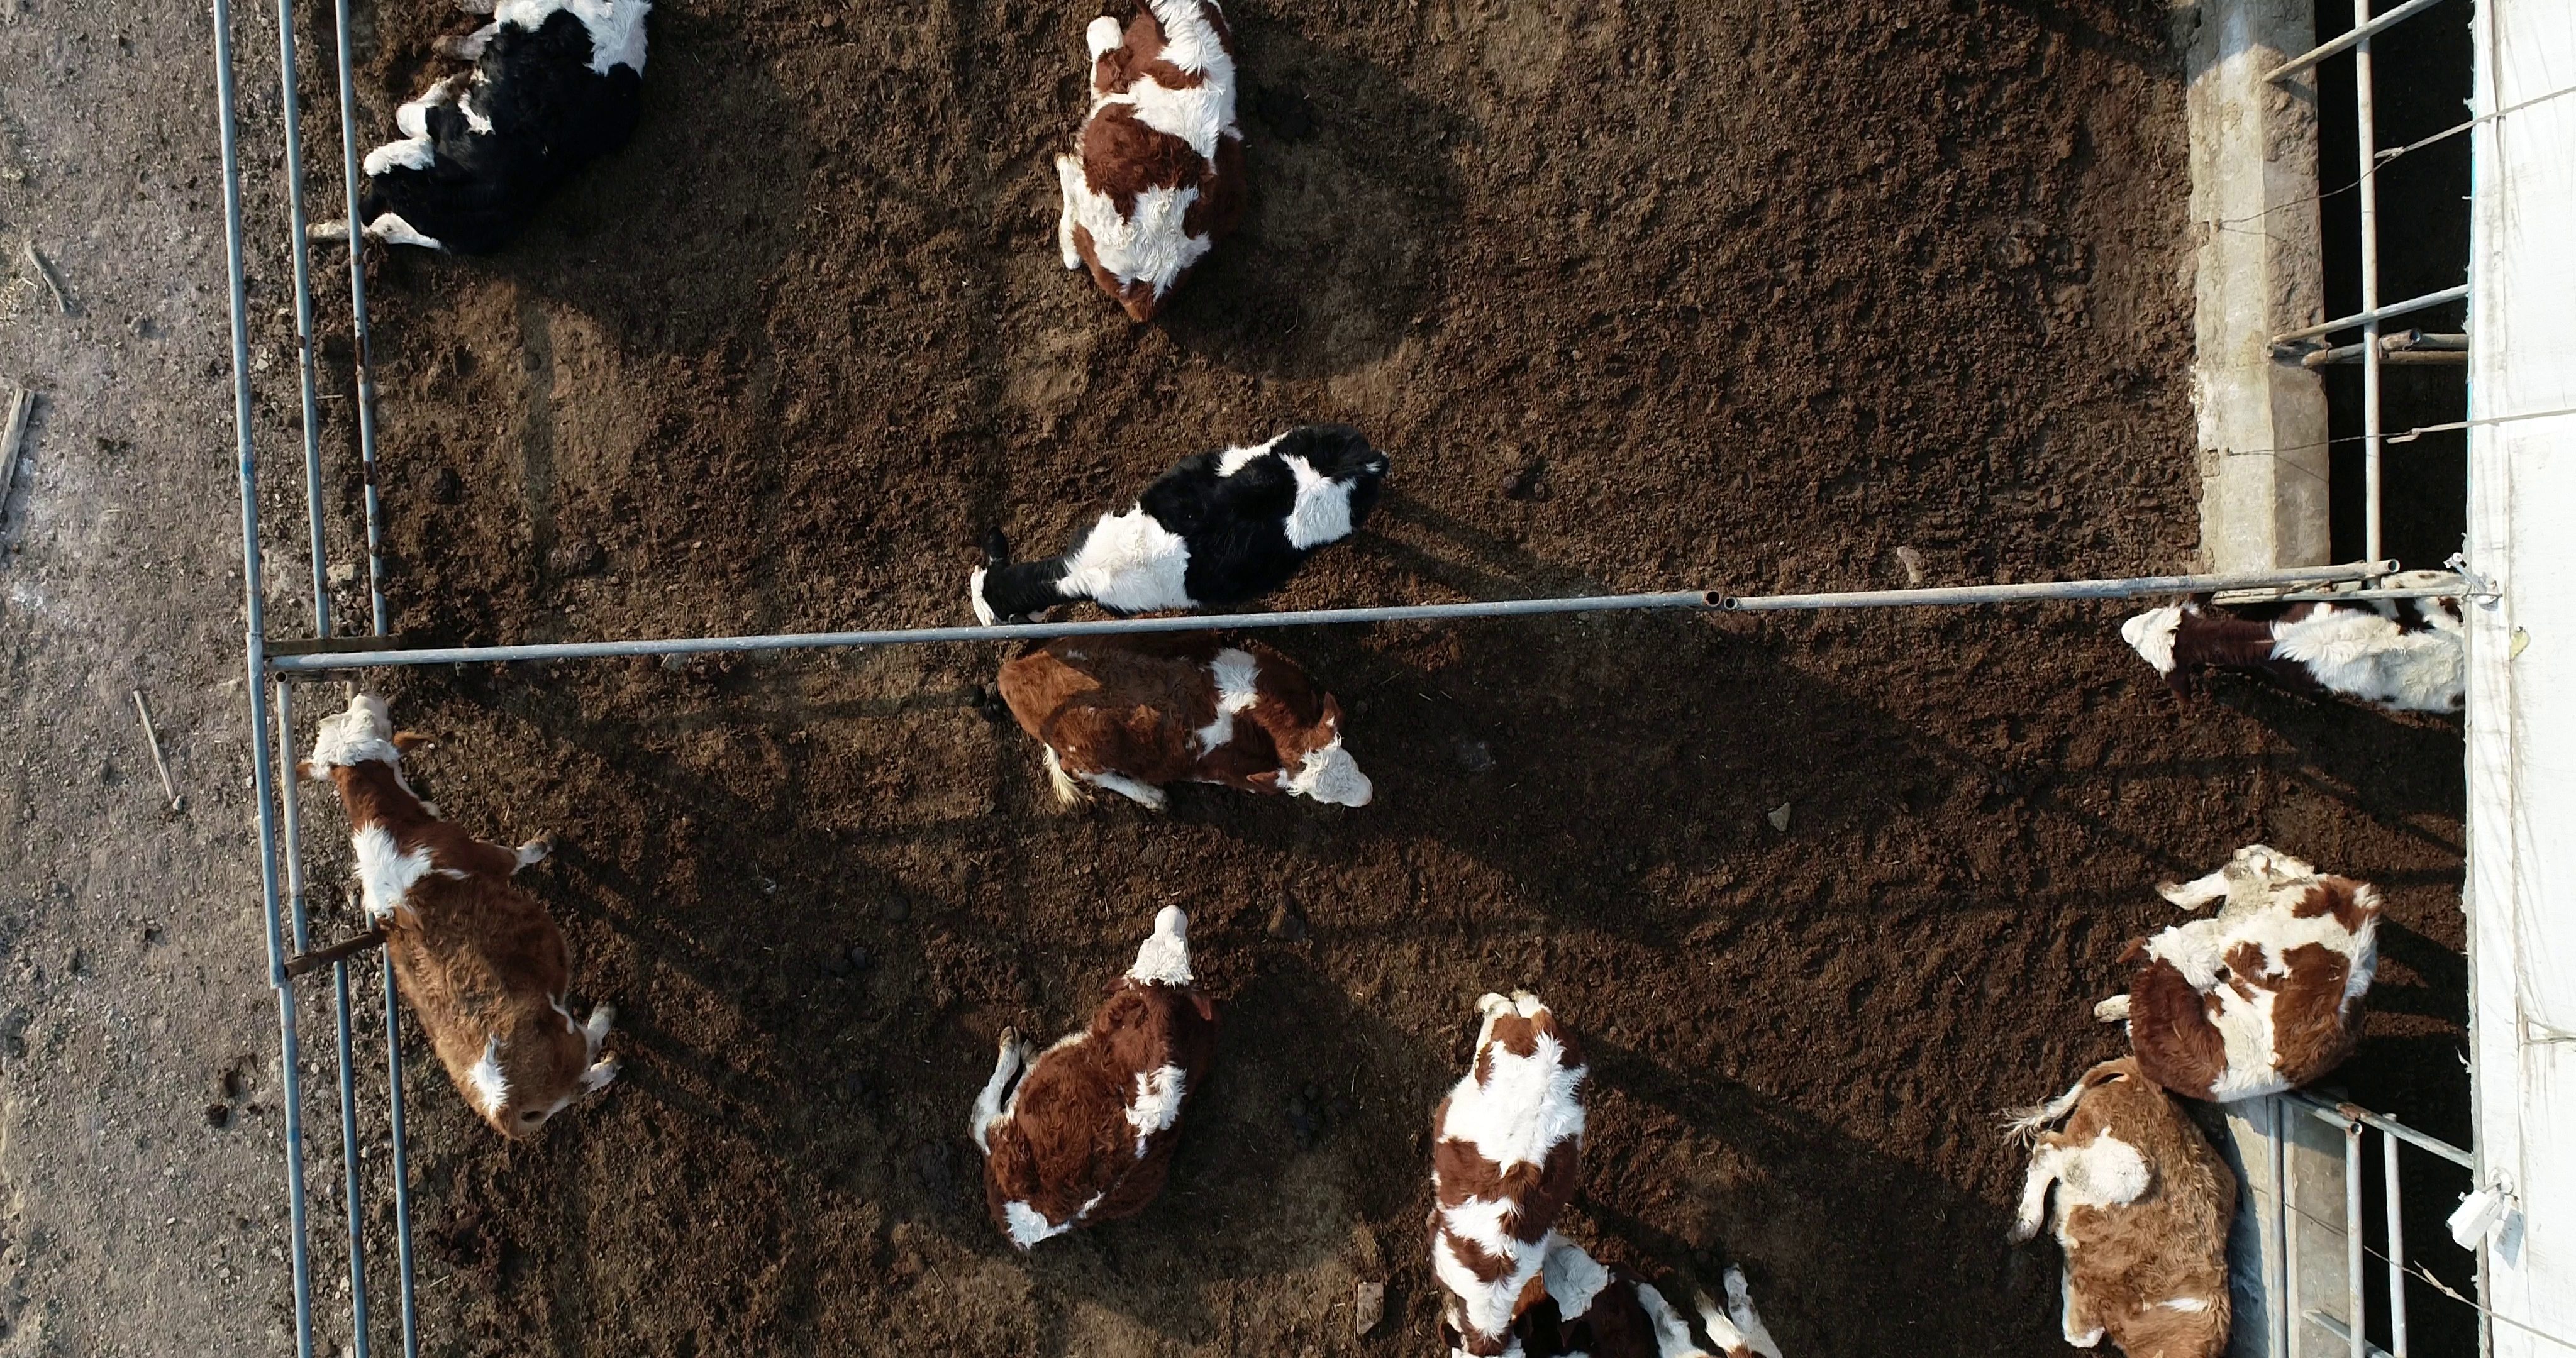cattle: (290, 693, 625, 1145), (964, 419, 1395, 634)
